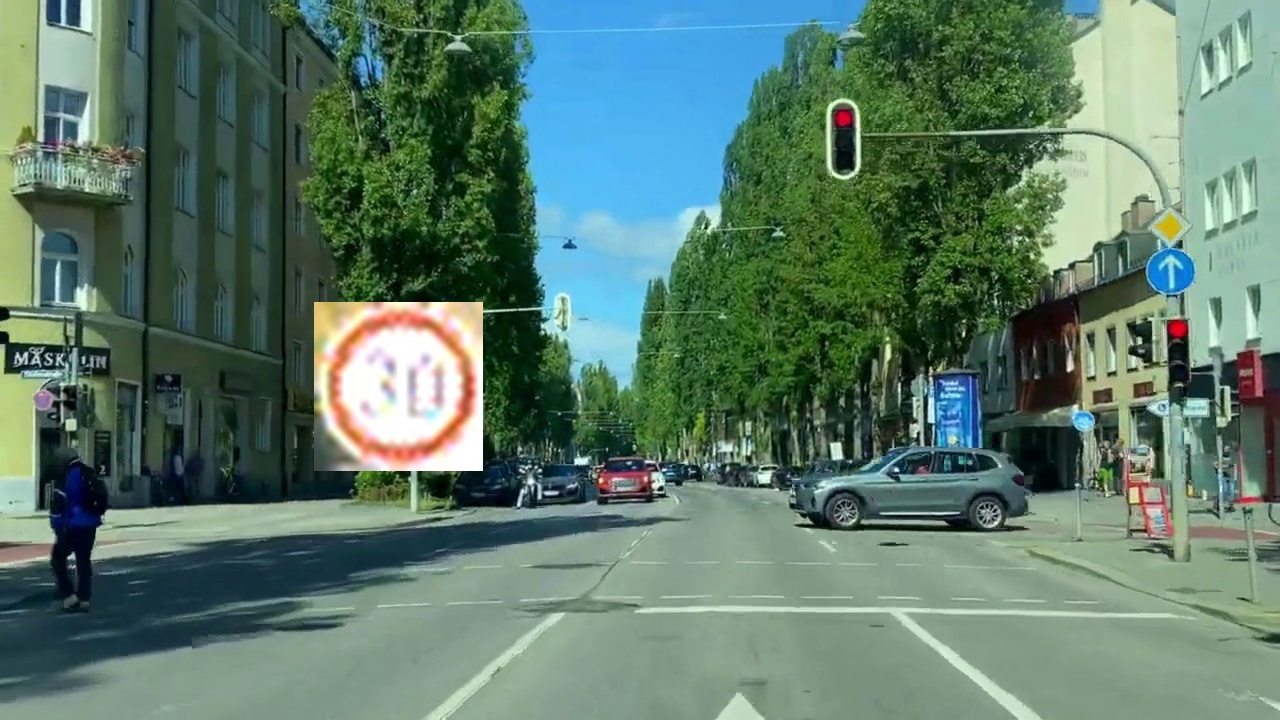Speed 30: (314, 302, 483, 471)
